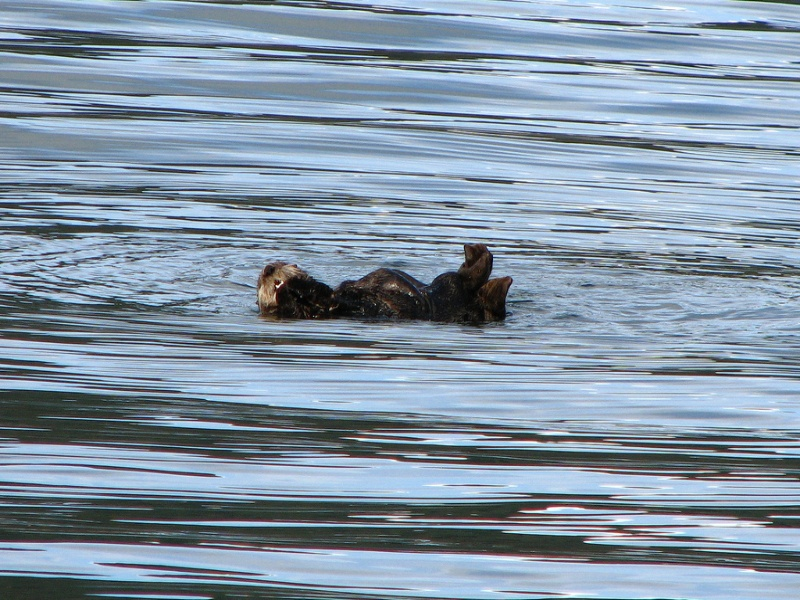minkish: (247, 241, 533, 349)
